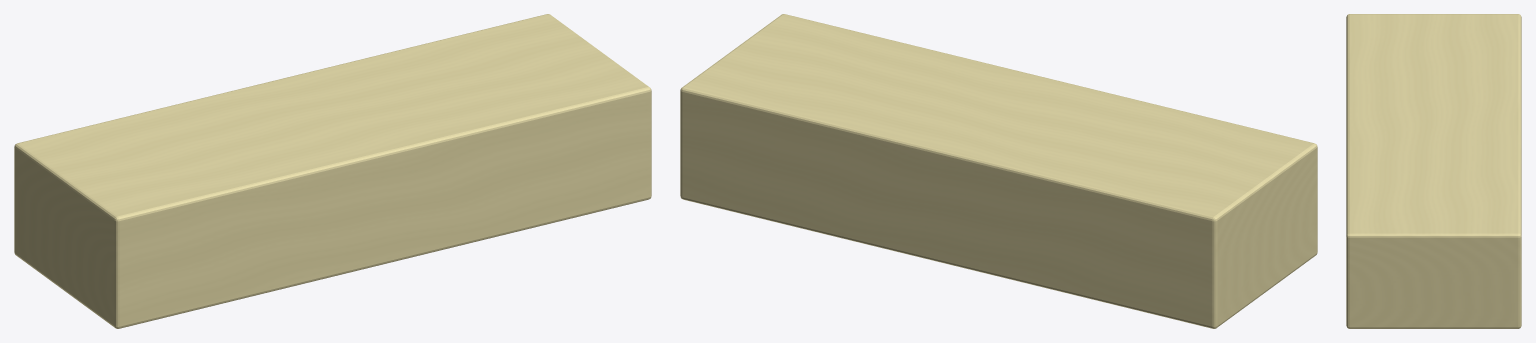
The model's file is butter.glb.
3 renders of one model, left to right at view 1: azimuth 30°, elevation 25°; view 2: azimuth 150°, elevation 25°; view 3: azimuth 270°, elevation 25°, orthographic. The views are drawn at different scales.
Parts seen in each view (by area): view 1: Block_L01_S1; view 2: Block_L01_S1; view 3: Block_L01_S1.
Boxes of the visible parts, box(x1,y1,x2,y2) form: Block_L01_S1: box(14, 14, 651, 328); Block_L01_S1: box(680, 14, 1317, 328); Block_L01_S1: box(1346, 14, 1521, 328).
Bounding box in the file's own units: 0.075 × 0.015 × 0.025.
1 material, 1 textured.
